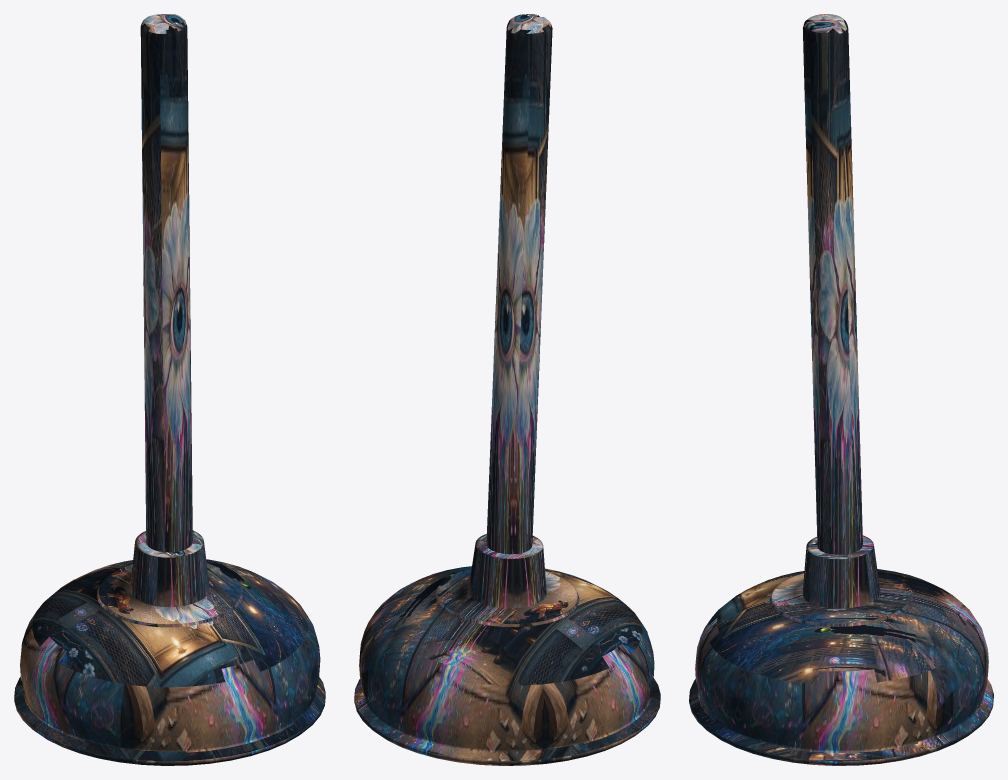
The model's file is ph_plunger.glb.
3 renders of one model, left to right at view 1: azimuth 30°, elevation 25°; view 2: azimuth 150°, elevation 25°; view 3: azimuth 270°, elevation 25°, orthographic. The views are drawn at different scales.
Visible parts, largest first — view 1: A; view 2: A; view 3: A.
Boxes of the visible parts, left/top/right/bottom form: A: left=14, top=14, right=325, bottom=765; A: left=354, top=14, right=660, bottom=765; A: left=689, top=14, right=993, bottom=765.
Size of the model in its own units: 0.8171 by 2 by 0.8171.
1 material, 1 textured.
